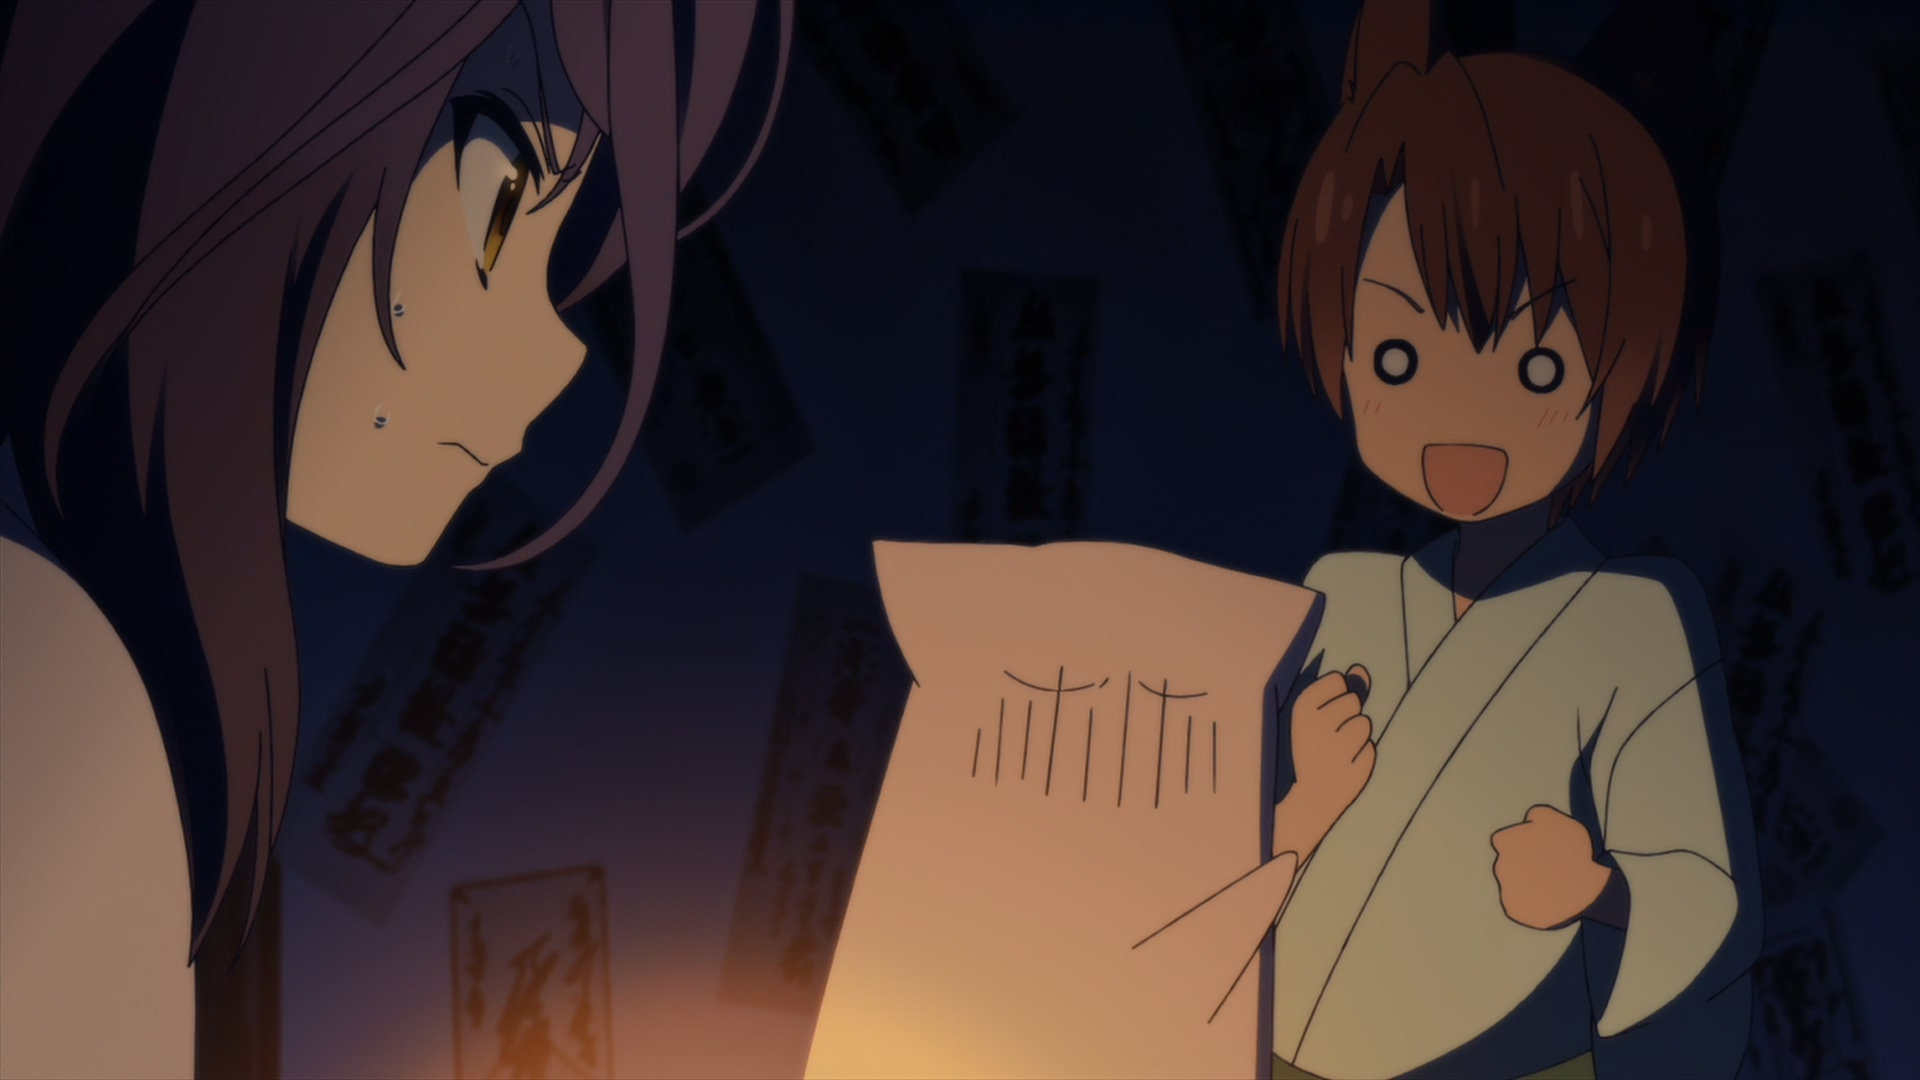枣: (1273, 1, 1760, 1080)
皋: (1, 1, 793, 1080)
莲: (800, 545, 1378, 1080)
